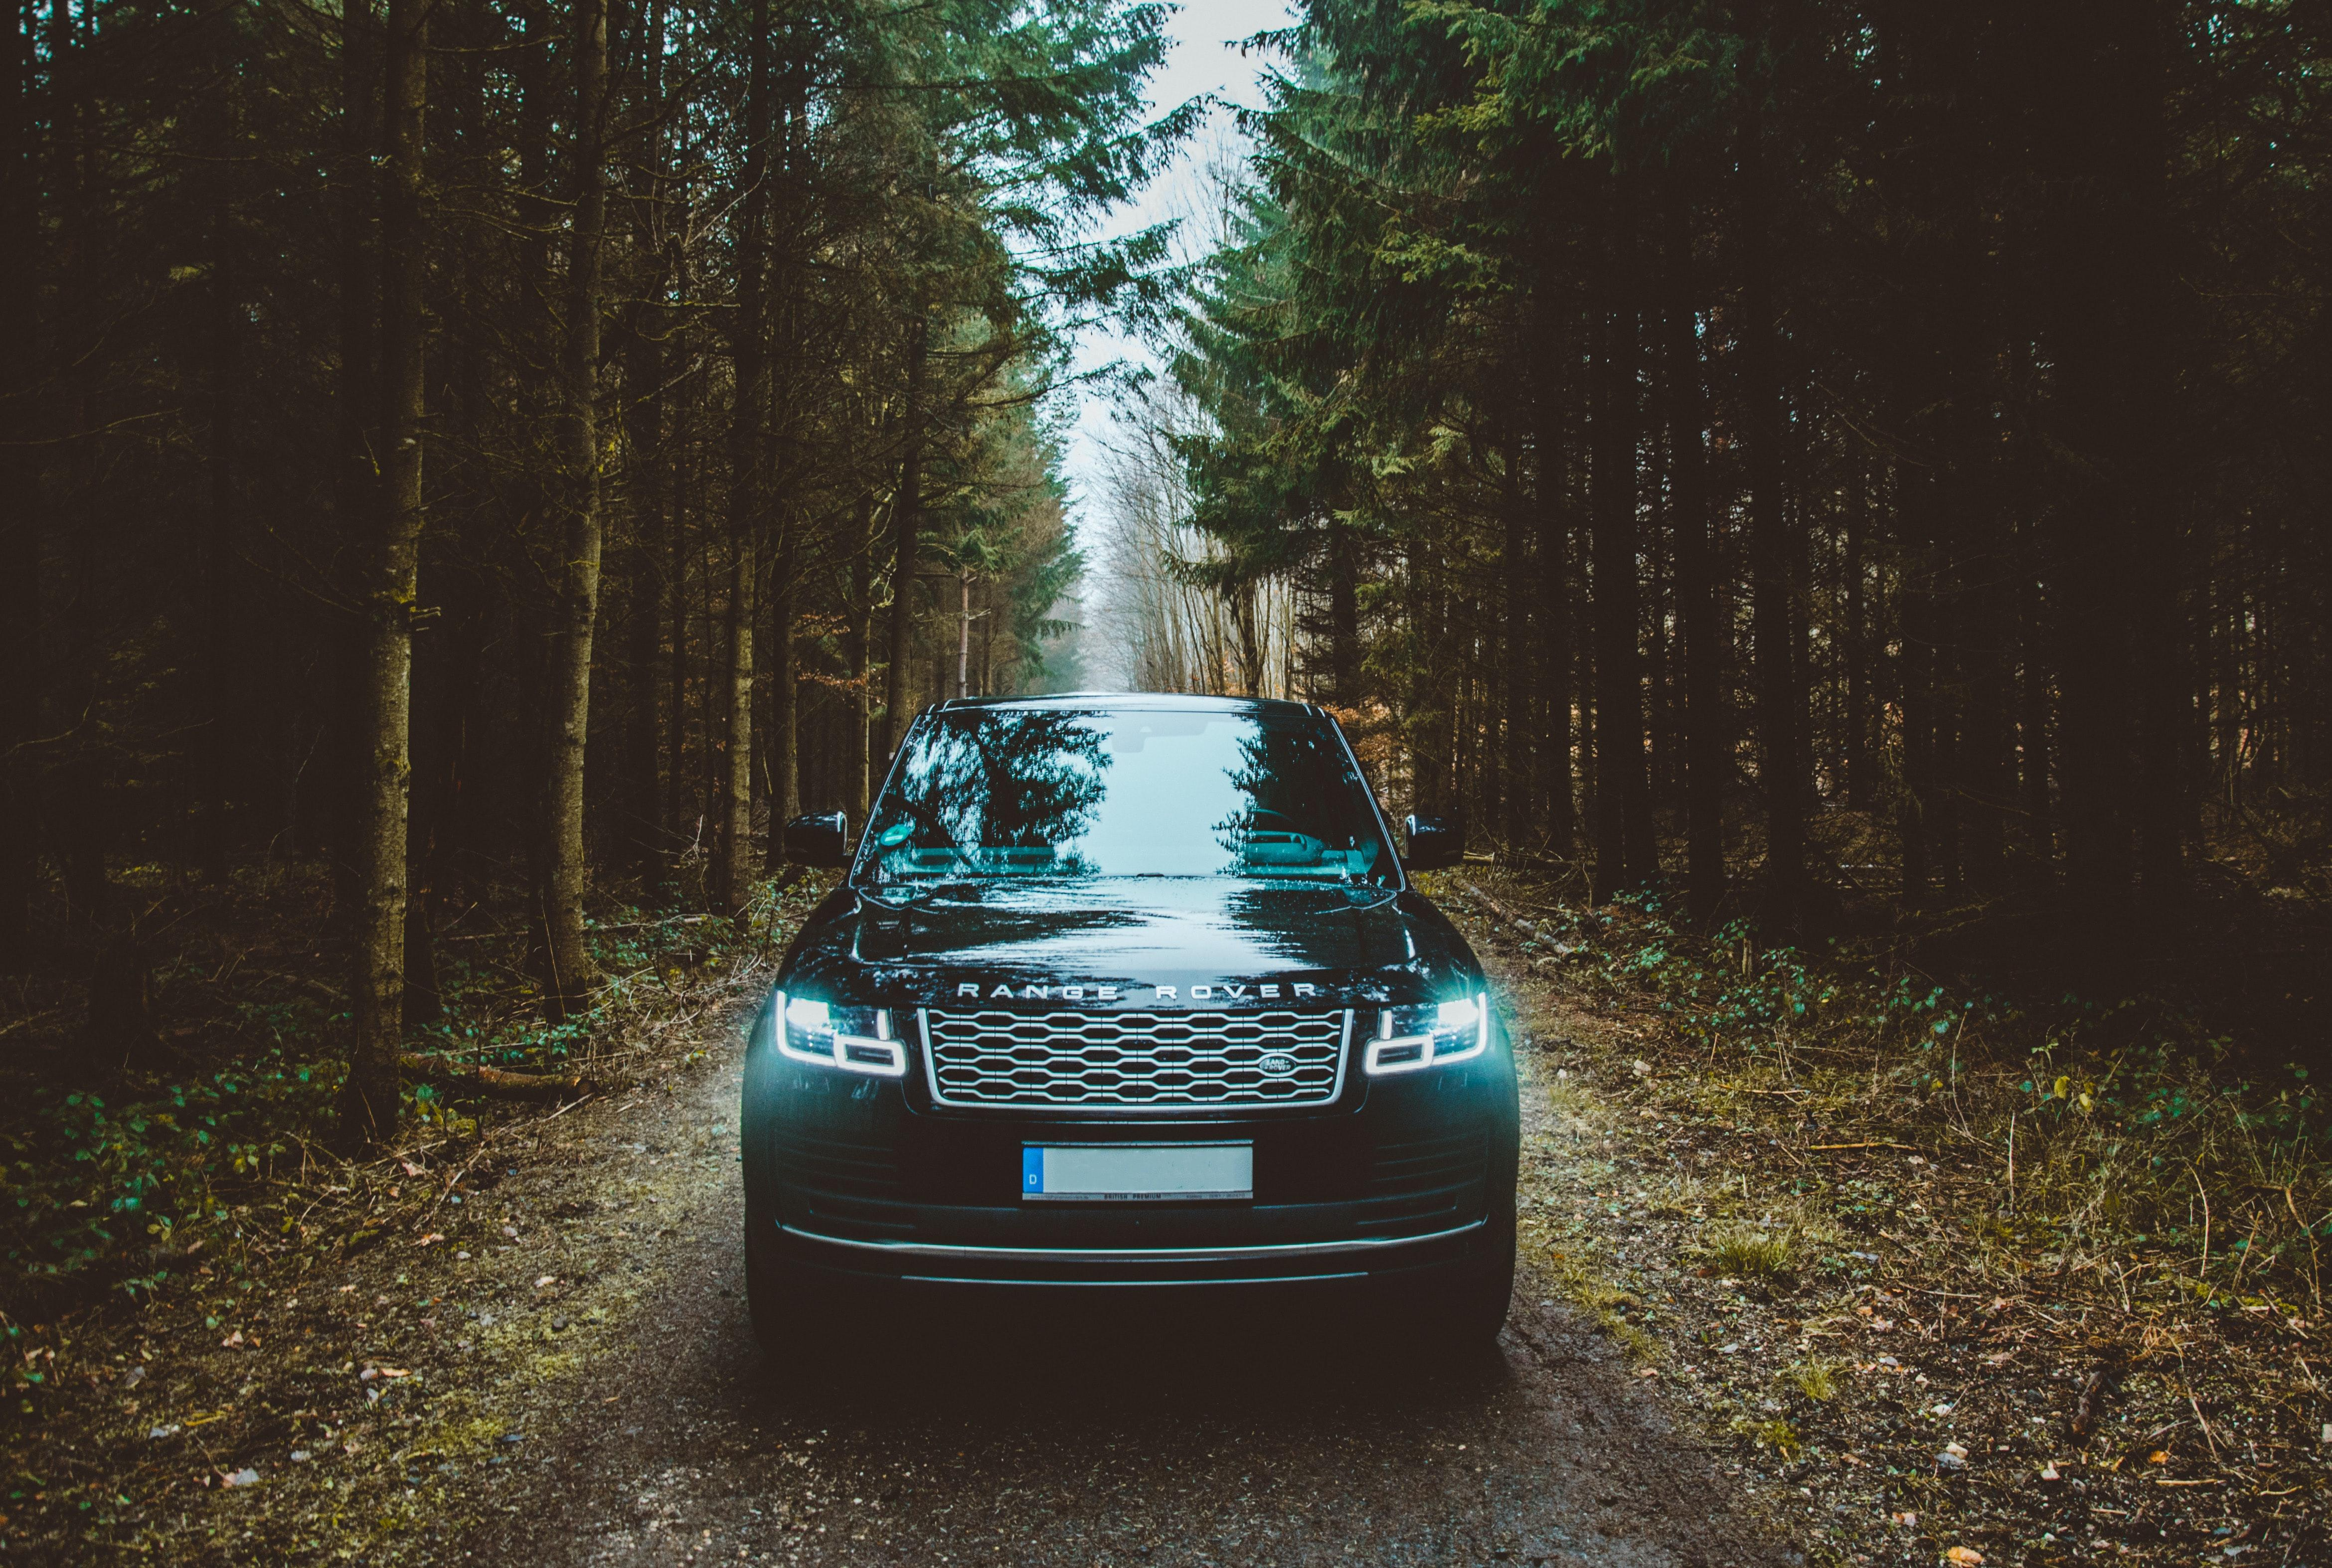range rover: (943, 971, 1335, 1017)
